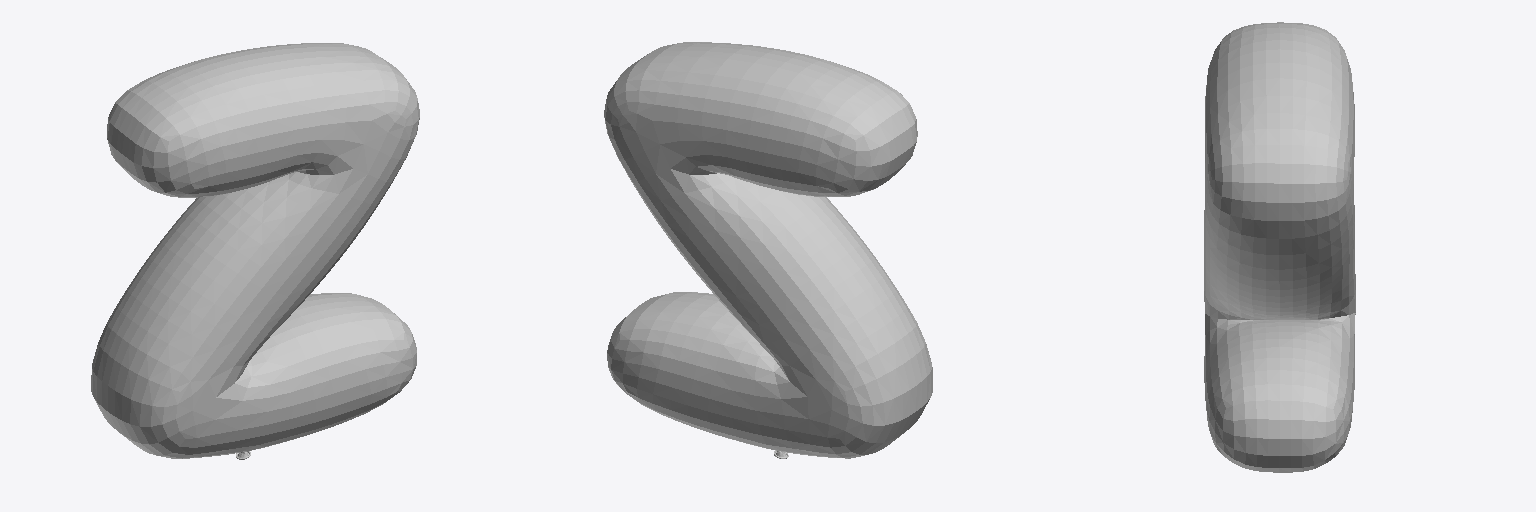
The picture shows the model from 3 angles: view 1: azimuth 30°, elevation 25°; view 2: azimuth 150°, elevation 25°; view 3: azimuth 270°, elevation 25°; orthographic projection.
Visible parts, largest first — view 1: Balloon_Alphabet_Subdivision_Z; view 2: Balloon_Alphabet_Subdivision_Z; view 3: Balloon_Alphabet_Subdivision_Z.
Part boxes in pixels (bbox=[...]): Balloon_Alphabet_Subdivision_Z: bbox=[91, 43, 419, 459]; Balloon_Alphabet_Subdivision_Z: bbox=[604, 42, 932, 458]; Balloon_Alphabet_Subdivision_Z: bbox=[1204, 22, 1355, 472].
Size of the model in its own units: 39.77 by 50.74 by 17.6.